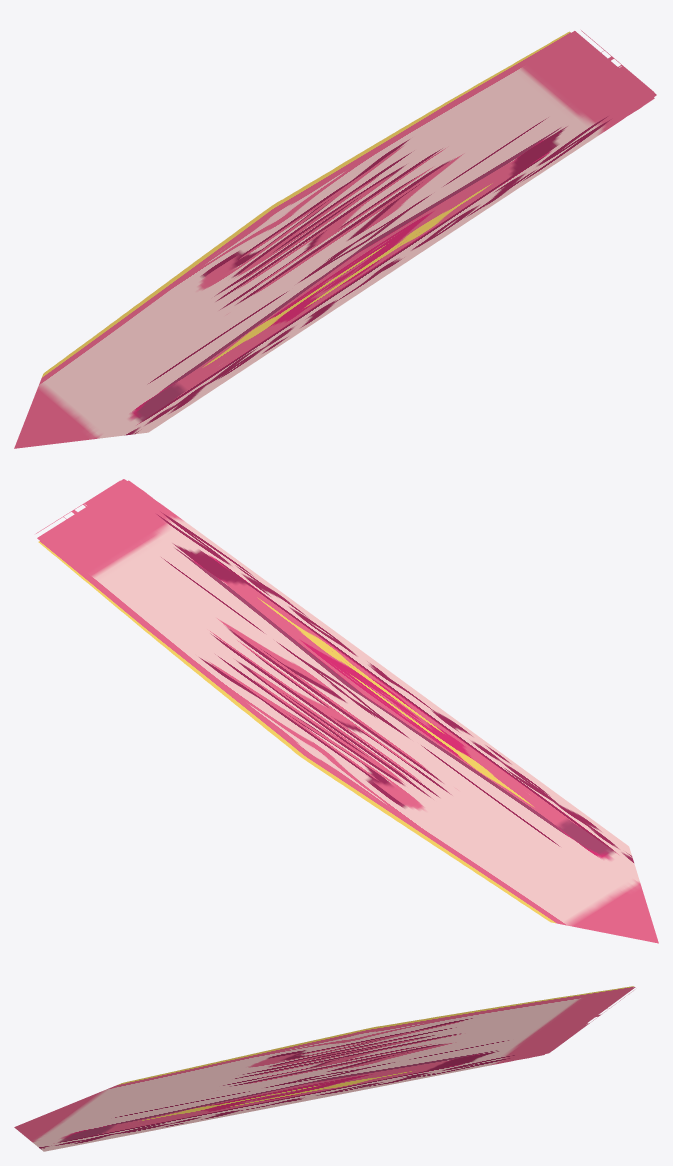
The model's file is flag1_reuv.fbx.
3 views of the same model, one above another, from view 1: azimuth 30°, elevation 25°; view 2: azimuth 150°, elevation 25°; view 3: azimuth 330°, elevation 25° (orthographic). The views are drawn at different scales.
Parts seen in each view (by area): view 1: flag1; view 2: flag1; view 3: flag1.
Boxes of the visible parts, left/top/right/bottom form: flag1: left=14, top=30, right=656, bottom=448; flag1: left=36, top=479, right=658, bottom=943; flag1: left=14, top=986, right=635, bottom=1151.
Bounding box in the file's own units: 2420 × 1050 × 820.
